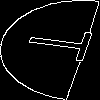T: (25, 25, 100, 64)
